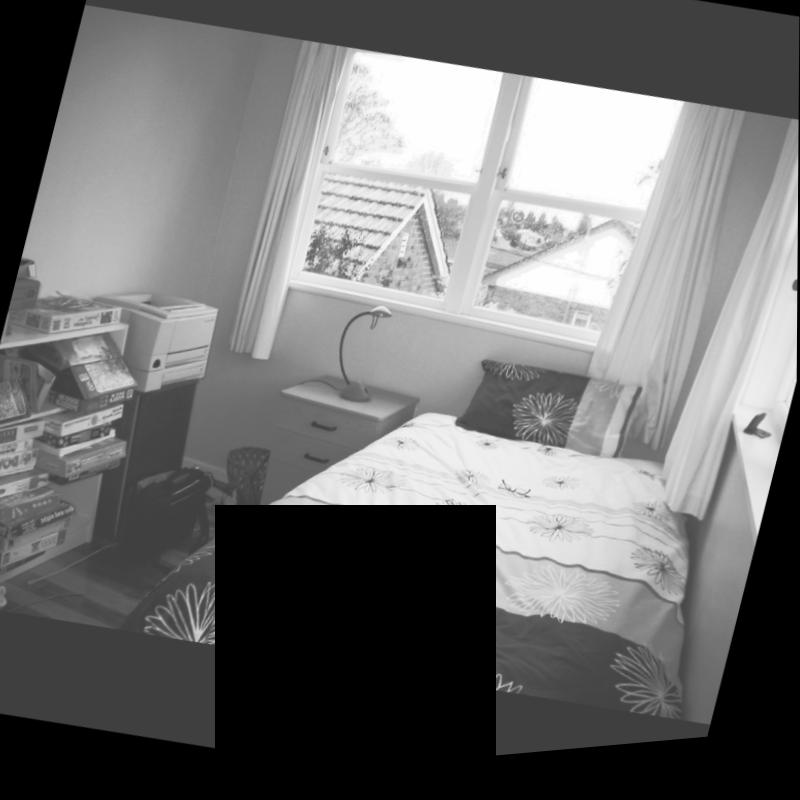pillow: (456, 356, 644, 483)
